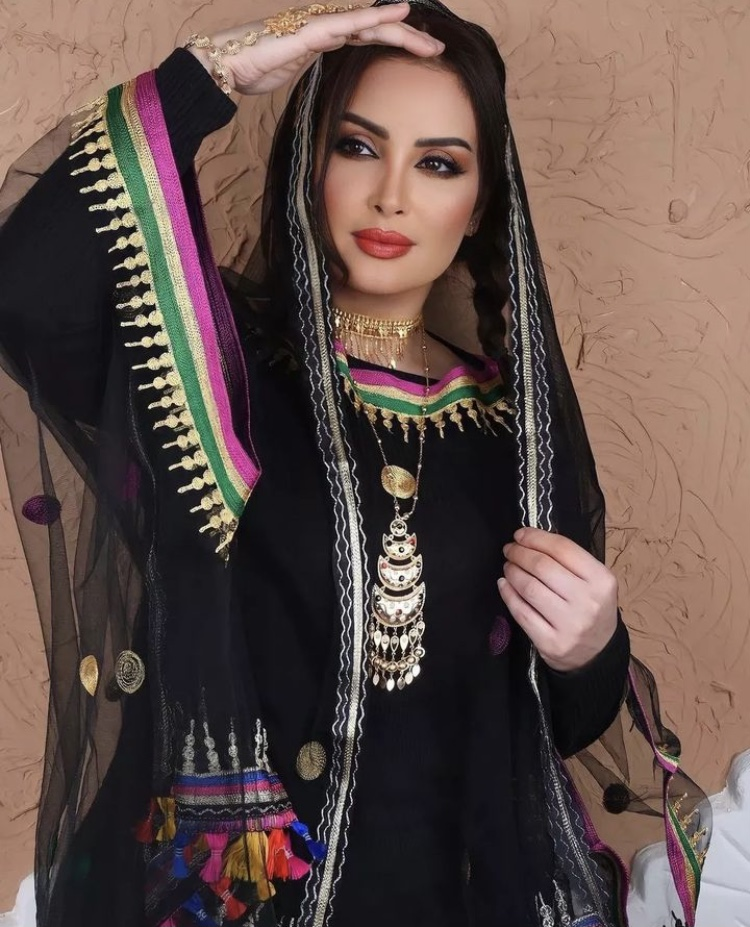Saudi_Founding_Day: (1, 3, 708, 927)
